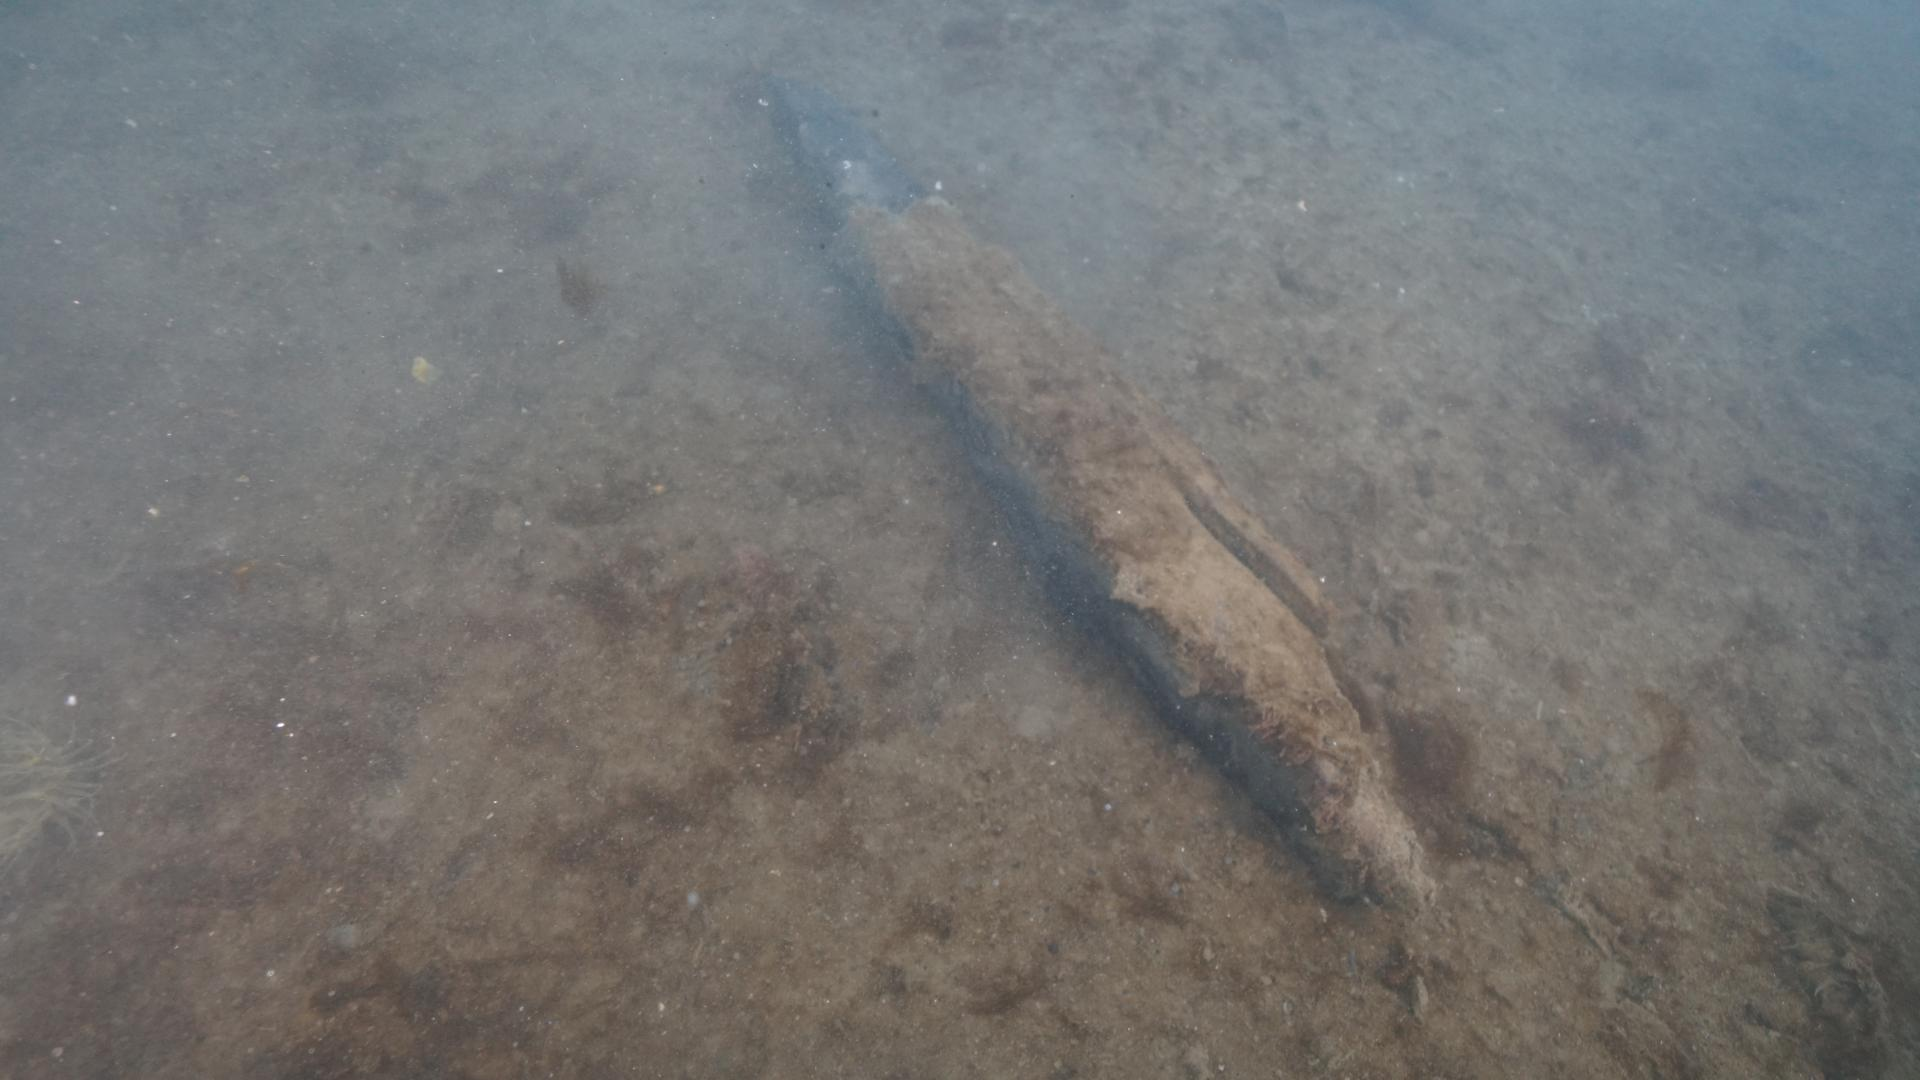wood: (757, 75, 1432, 934)
